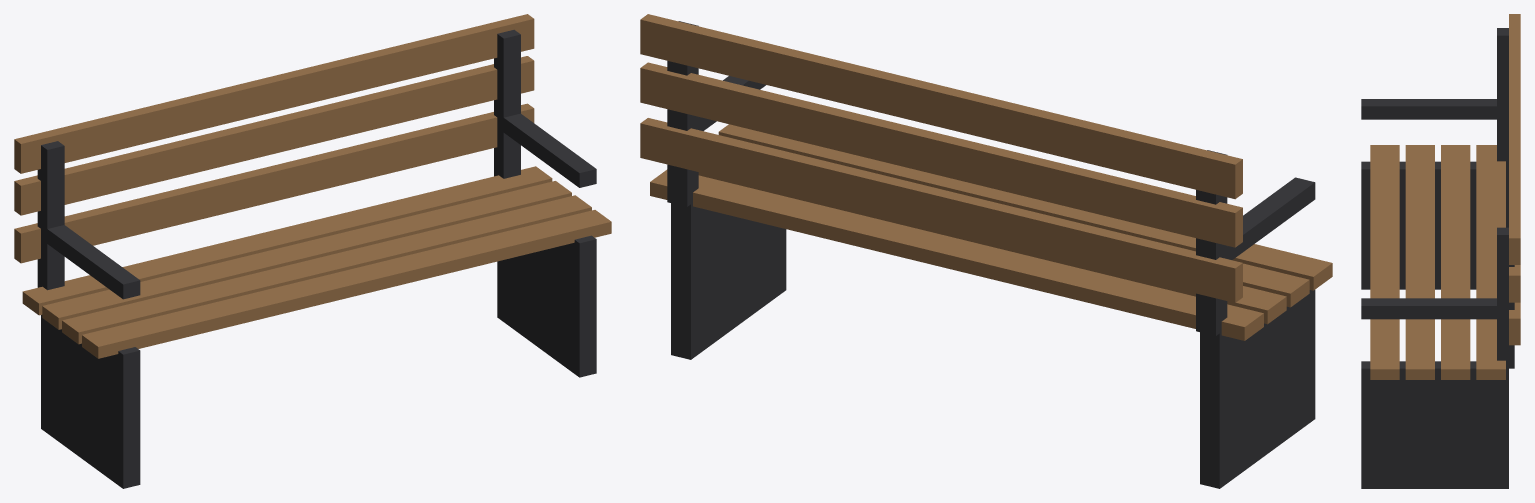
File: park_bench.glb
The picture shows the model from 3 angles, left to right: view 1: azimuth 30°, elevation 25°; view 2: azimuth 150°, elevation 25°; view 3: azimuth 270°, elevation 25°; orthographic projection. The views are drawn at different scales.
Visible parts, largest first — view 1: park_bench; view 2: park_bench; view 3: park_bench.
Boxes of the visible parts, <box> form: park_bench: <box>14,14,611,488</box>; park_bench: <box>640,14,1332,488</box>; park_bench: <box>1361,14,1520,488</box>.
Size of the model in its own units: 1.8 by 0.97 by 0.54.
